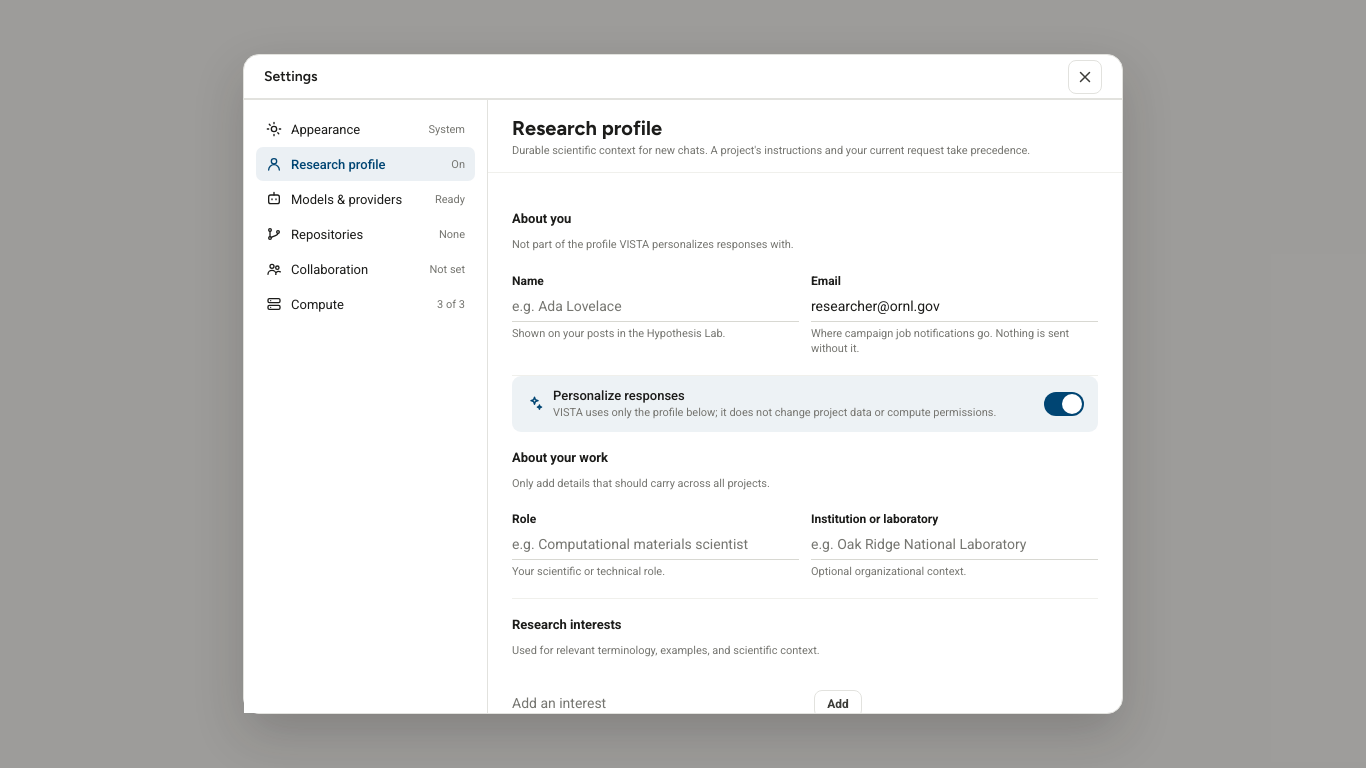
Test case: UserSettingsModal navigation › marks a hidden resource and still lists it under its facility
Click the button "Compute 3 of 3". click: [366, 304]
box: [256,287,475,321]
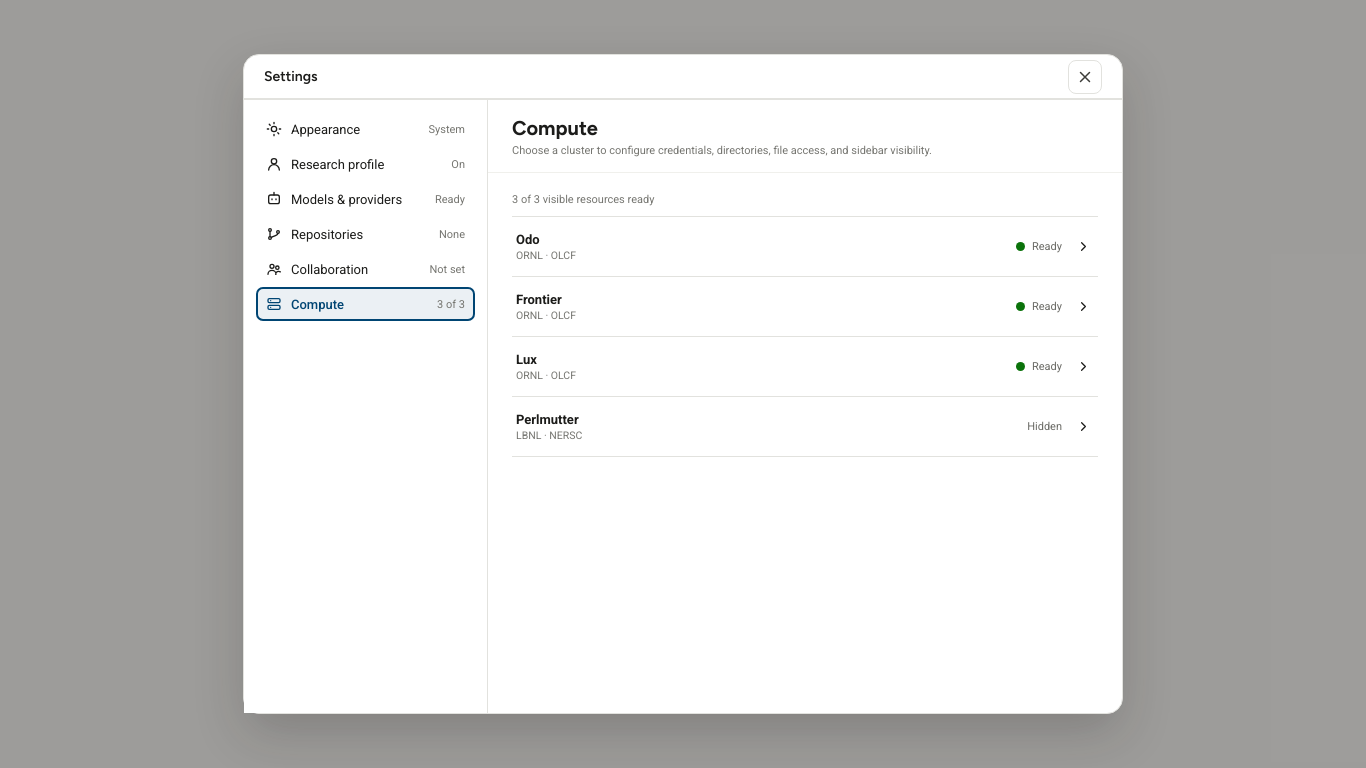
Expected: the button "Frontier ORNL · OLCF Ready" does not show "Hidden", [512,277,1098,337]
Expected: the button "Perlmutter LBNL · NERSC Hidden" is shown, [512,397,1098,457]
